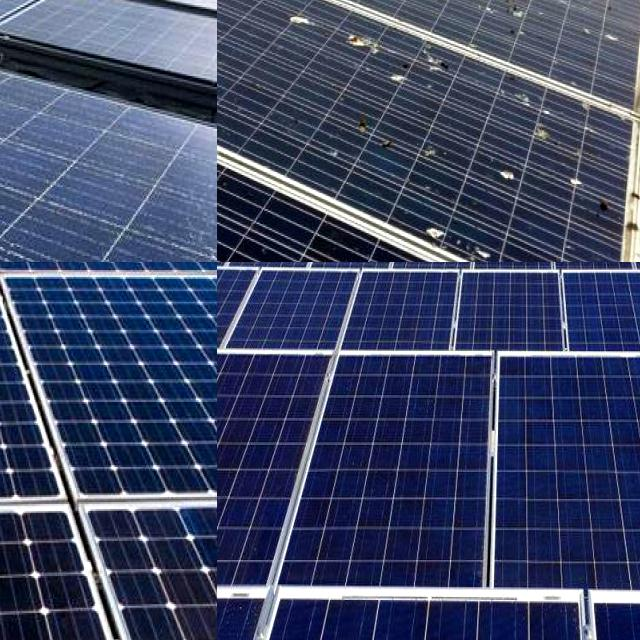bird: (429, 219, 503, 262), (579, 0, 624, 63), (340, 111, 398, 154), (498, 0, 537, 52), (272, 3, 326, 38), (377, 0, 445, 25), (340, 33, 396, 61), (423, 50, 476, 78), (556, 0, 598, 31), (524, 117, 562, 150), (424, 133, 452, 176), (492, 152, 526, 185), (586, 190, 624, 219), (563, 170, 593, 190), (603, 0, 637, 16), (612, 0, 640, 15)
crack: (259, 362, 499, 616), (0, 274, 217, 508), (0, 262, 188, 527), (487, 351, 640, 616), (0, 505, 217, 640), (51, 476, 217, 640), (217, 264, 378, 378), (0, 262, 217, 346), (439, 266, 587, 376), (330, 262, 466, 375), (551, 262, 640, 372), (0, 262, 126, 336)
